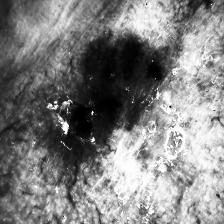Benign Marking or Mole: (83, 33, 162, 94), (61, 96, 95, 141), (97, 96, 122, 122)
